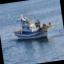fishing boat: (10, 6, 56, 45)
